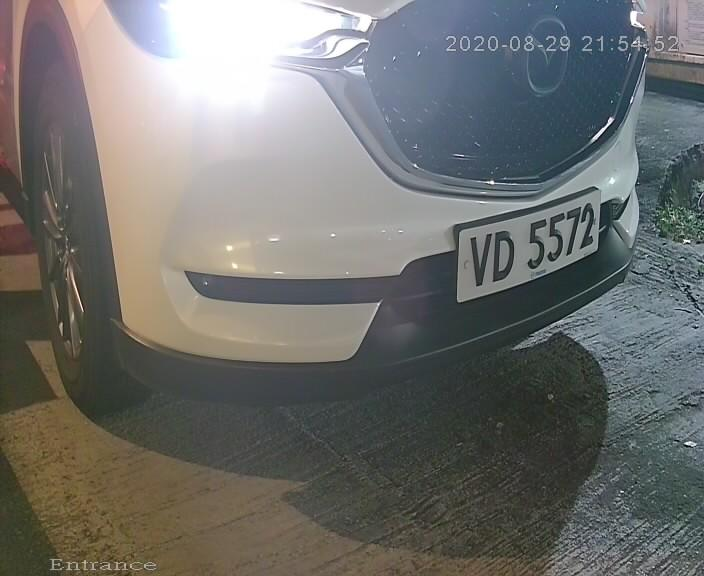License Plate: (440, 173, 607, 314)
